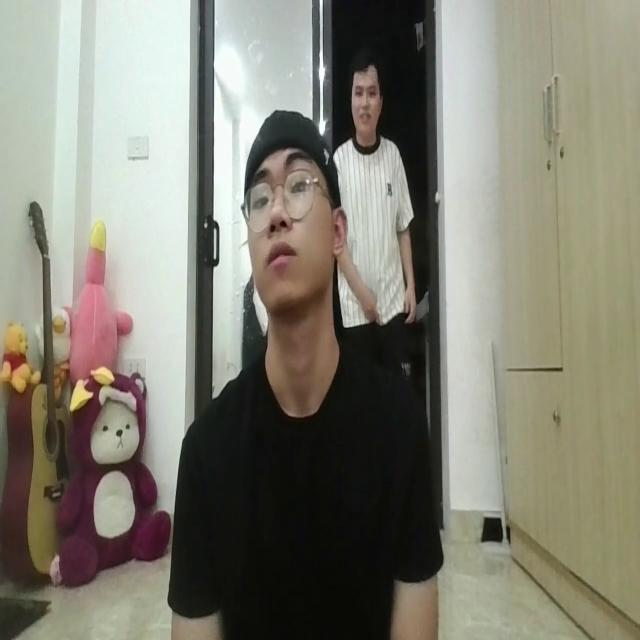extra_person: (331, 55, 421, 337)
student: (170, 101, 441, 640)
